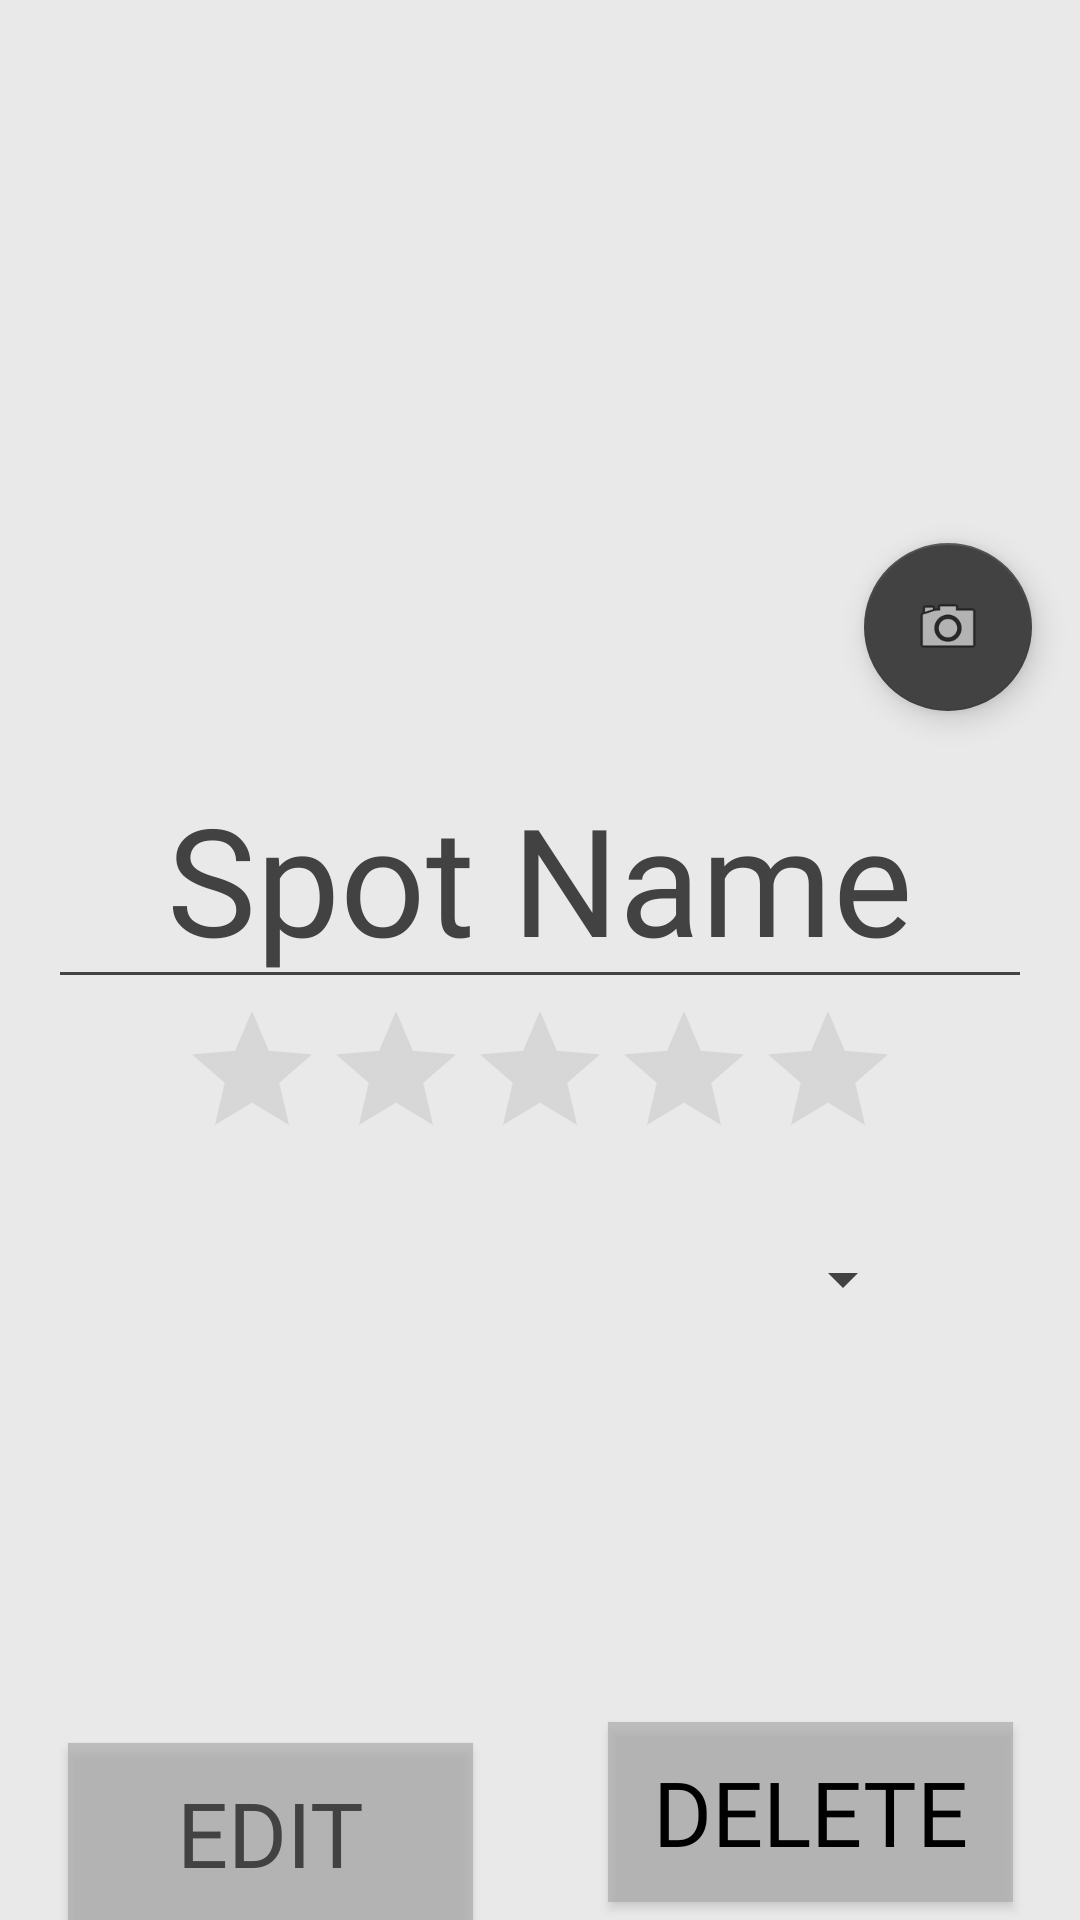

Icons on this 1080px x 1920px Android screen, each with the point to tap as [x,y]:
camera: [948,627]
